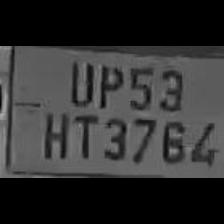3: (98, 113, 128, 162), (155, 64, 185, 112)
4: (186, 116, 216, 166)
5: (123, 61, 155, 109)
6: (156, 115, 186, 163)
7: (128, 113, 154, 164)
H: (37, 106, 69, 160)
P: (94, 61, 124, 109)
T: (70, 110, 96, 158)
U: (63, 56, 95, 106)
